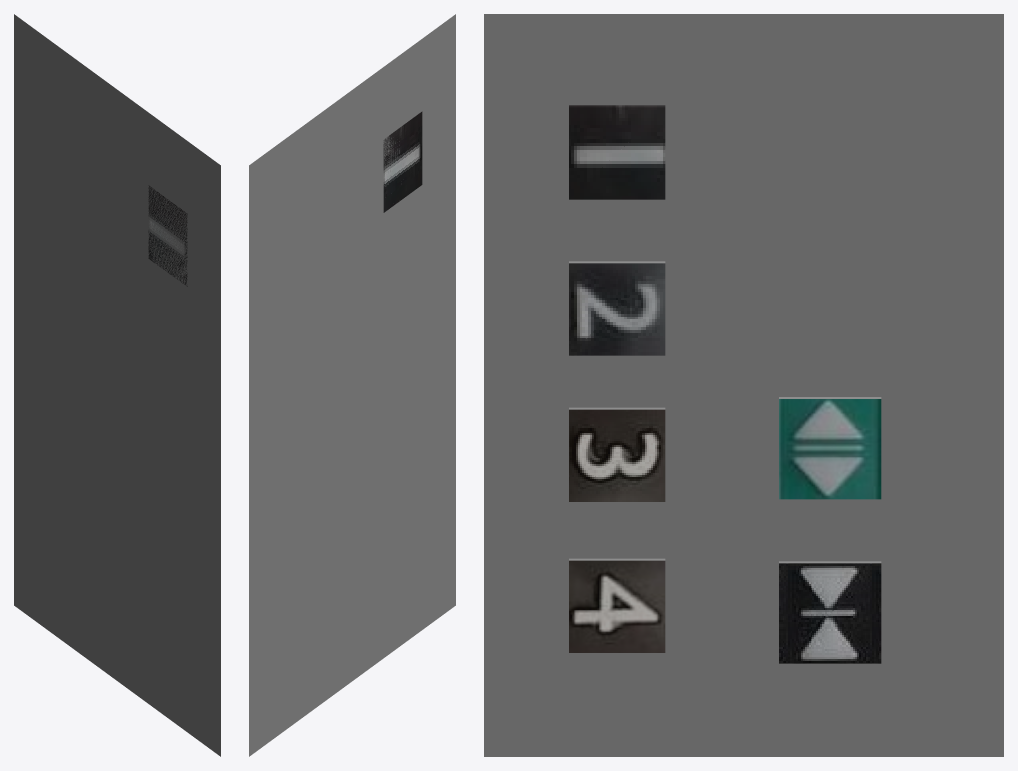
Rendered from ElevaterButtonPanel.fbx.
The picture shows the model from 3 angles, left to right: view 1: azimuth 30°, elevation 25°; view 2: azimuth 150°, elevation 25°; view 3: azimuth 270°, elevation 25°; orthographic projection. The views are drawn at different scales.
Visible parts, largest first — view 1: 平面; view 2: 平面; view 3: 平面.
Boxes of the visible parts, left/top/right/bottom form: 平面: left=14, top=14, right=220, bottom=756; 平面: left=249, top=14, right=455, bottom=756; 平面: left=484, top=14, right=1003, bottom=756.
Size of the model in its own units: 1.14 by 200 by 127.
